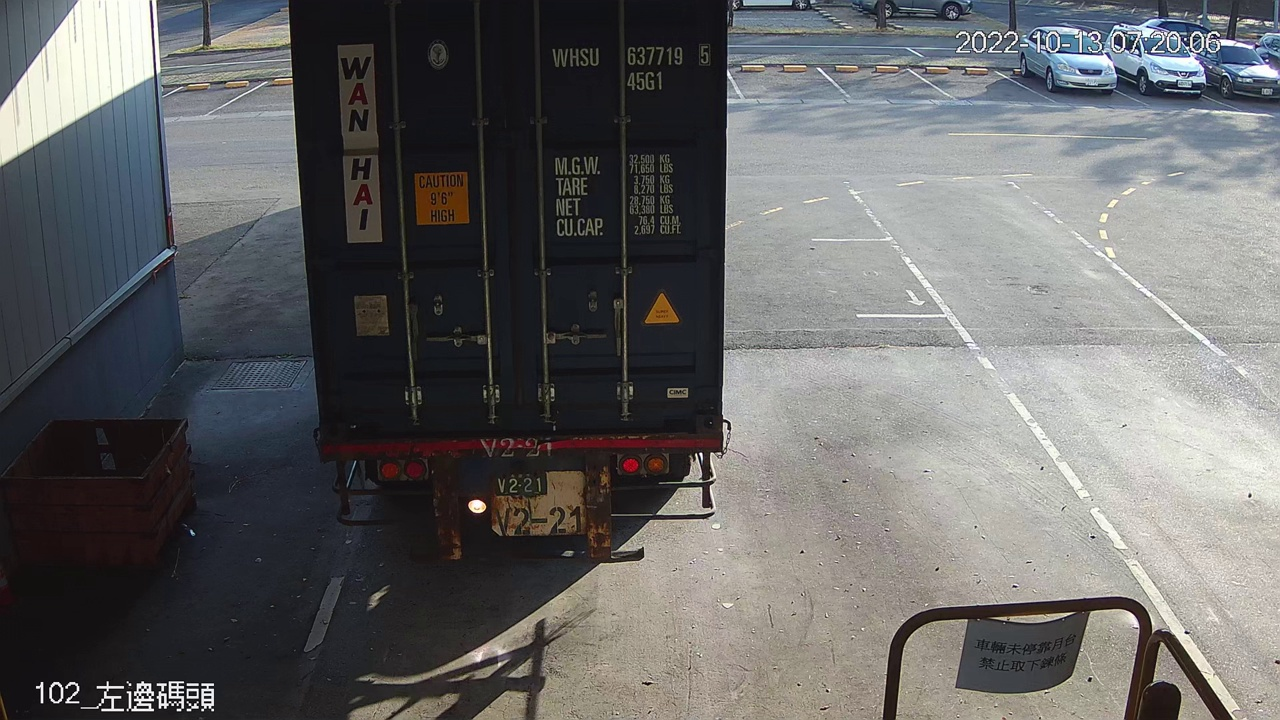container: (545, 35, 718, 96)
